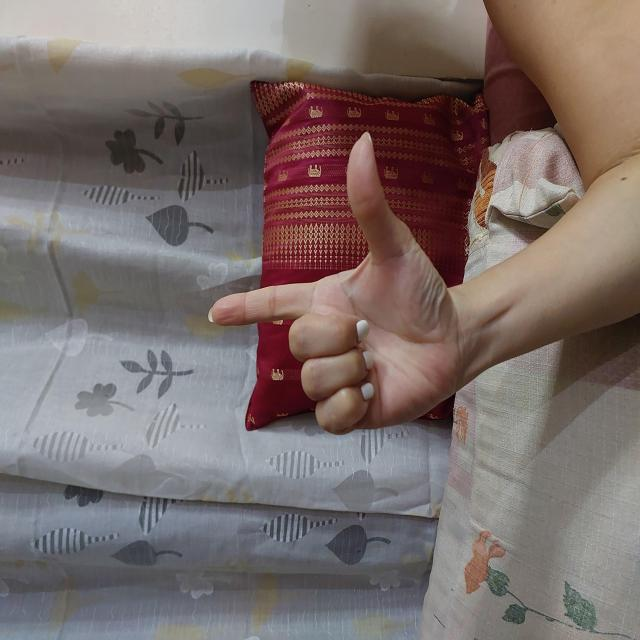L: (203, 204, 511, 462)
